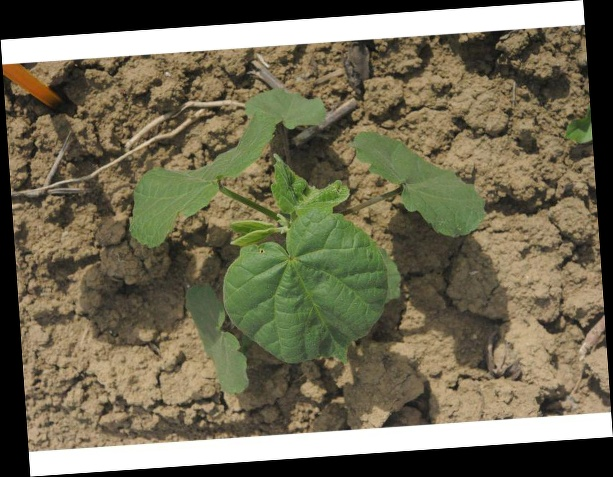velvet: (129, 85, 488, 390)
